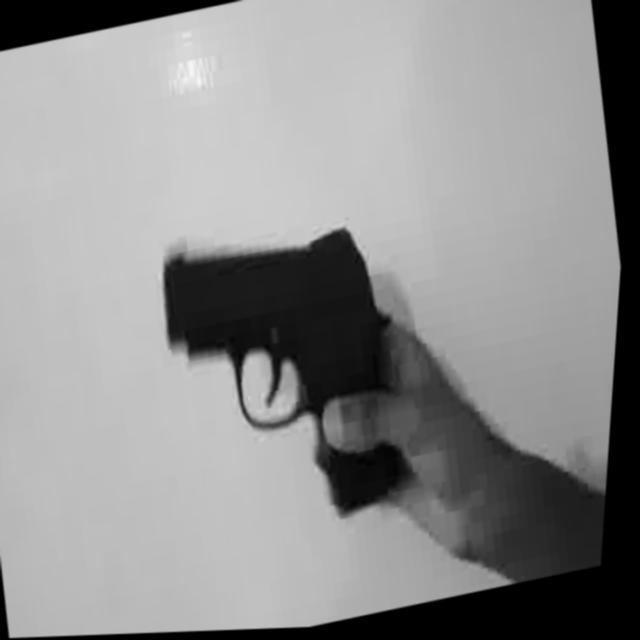weapon: (148, 208, 426, 498)
